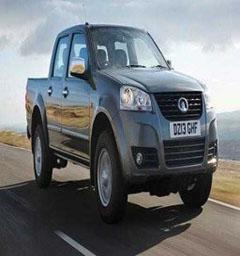car: (13, 14, 228, 230)
